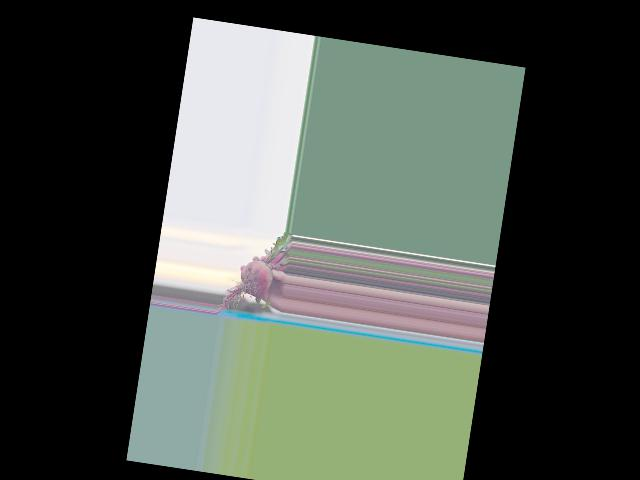beet: (216, 223, 292, 323)
